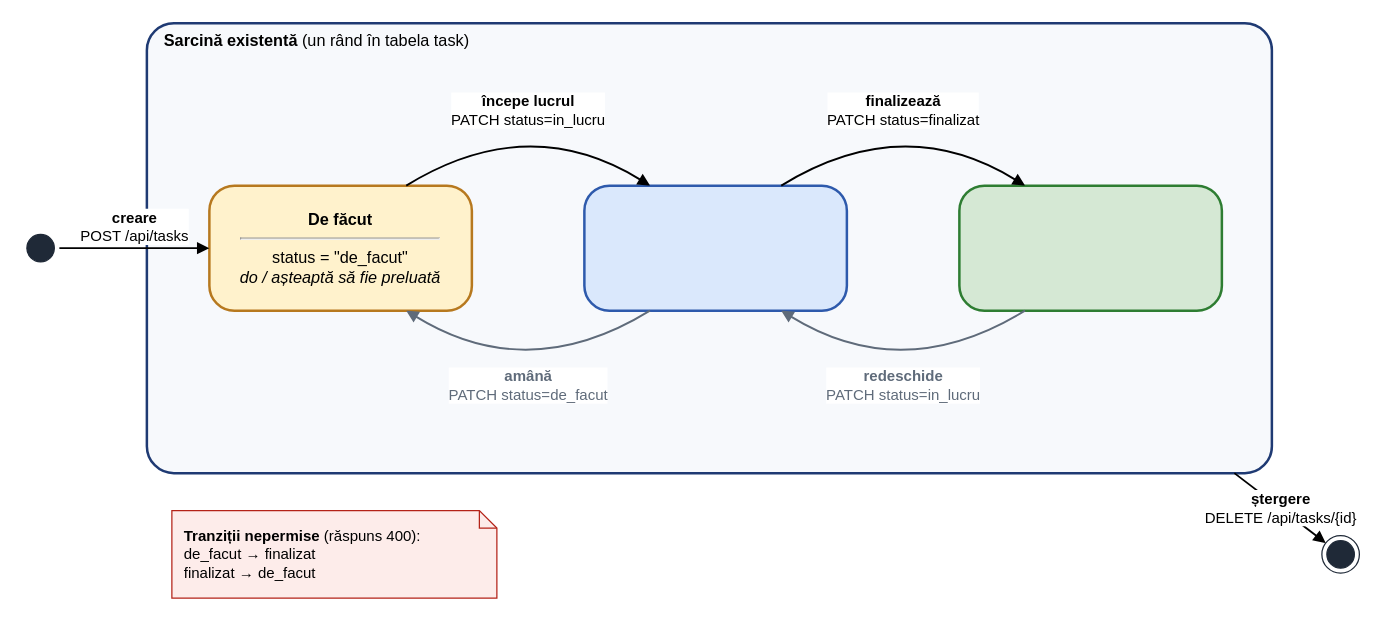
Some shapes in this 1381 by 620 pixel diagram are drawn without their labels. Each missing label, with the box of its shape:
Finalizat status = "finalizat" entry / apare ca terminată: (958, 184, 1222, 311)
În lucru status = "in_lucru" do / se lucrează la ea: (582, 184, 848, 311)
